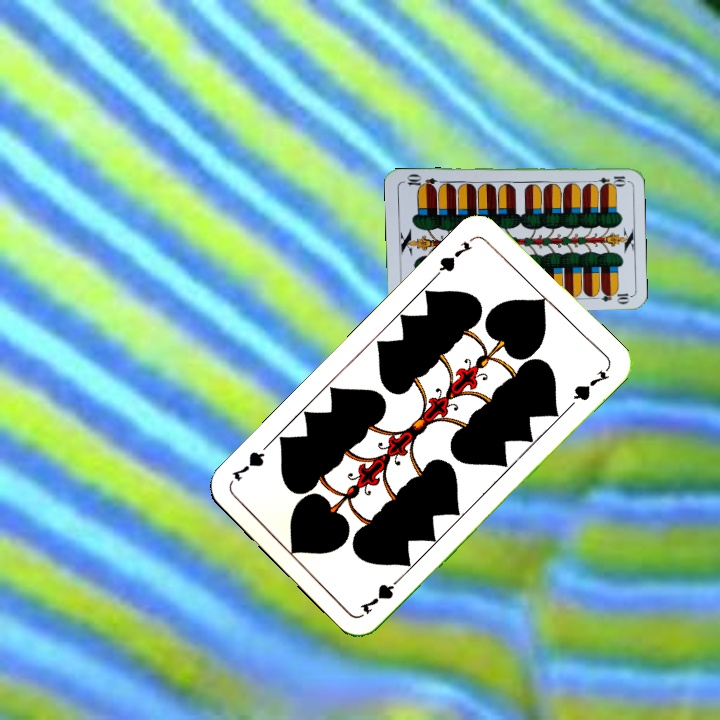E10: (588, 172, 628, 186)
G7: (356, 571, 407, 617), (431, 236, 475, 279)
